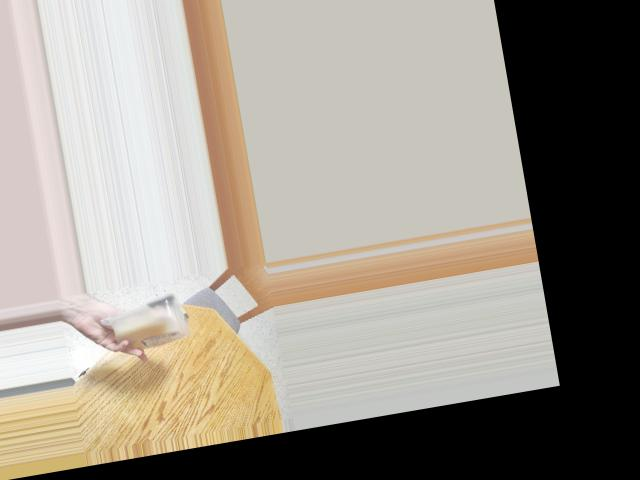cheese: (113, 298, 186, 351)
